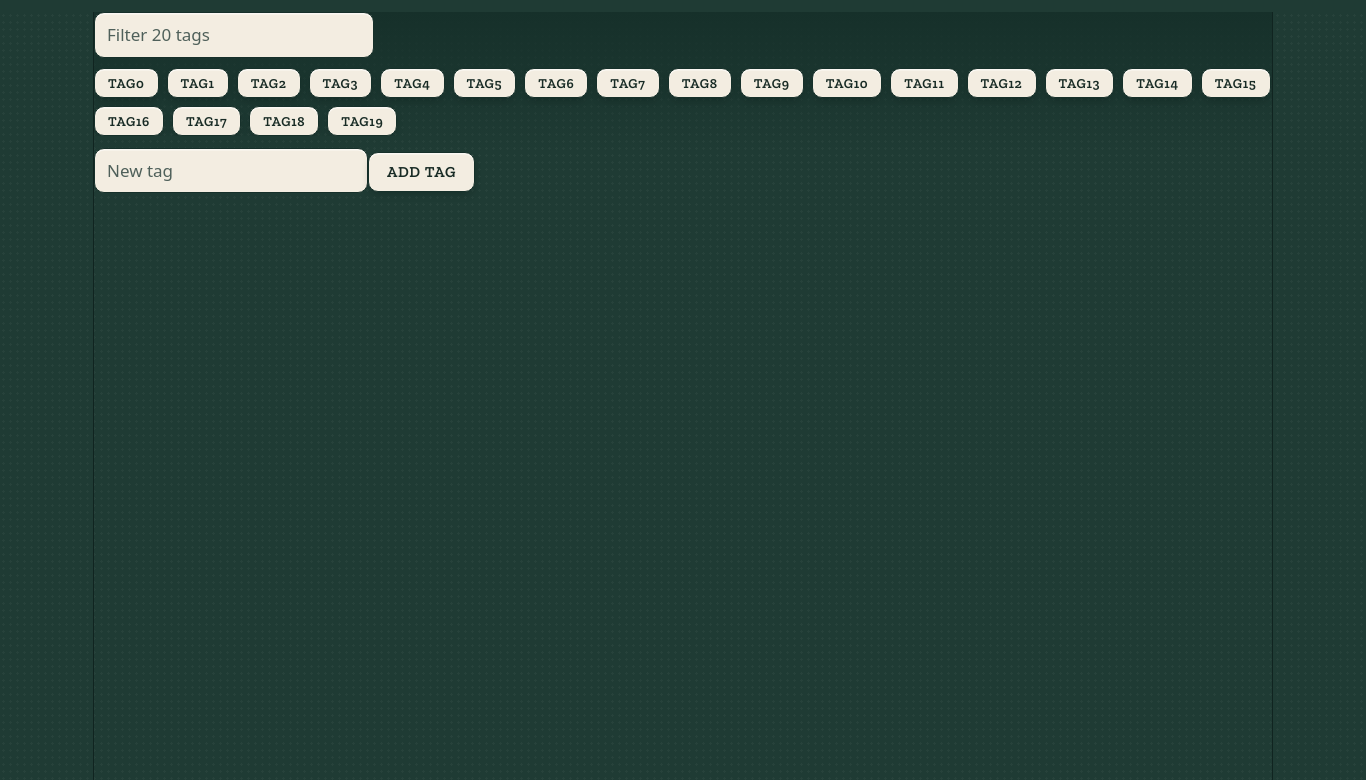
a filter that matches nothing says so rather than showing an empty gap
Type "zzz" into the field named "filter tags" at (234, 35), box [94,12,374,58]
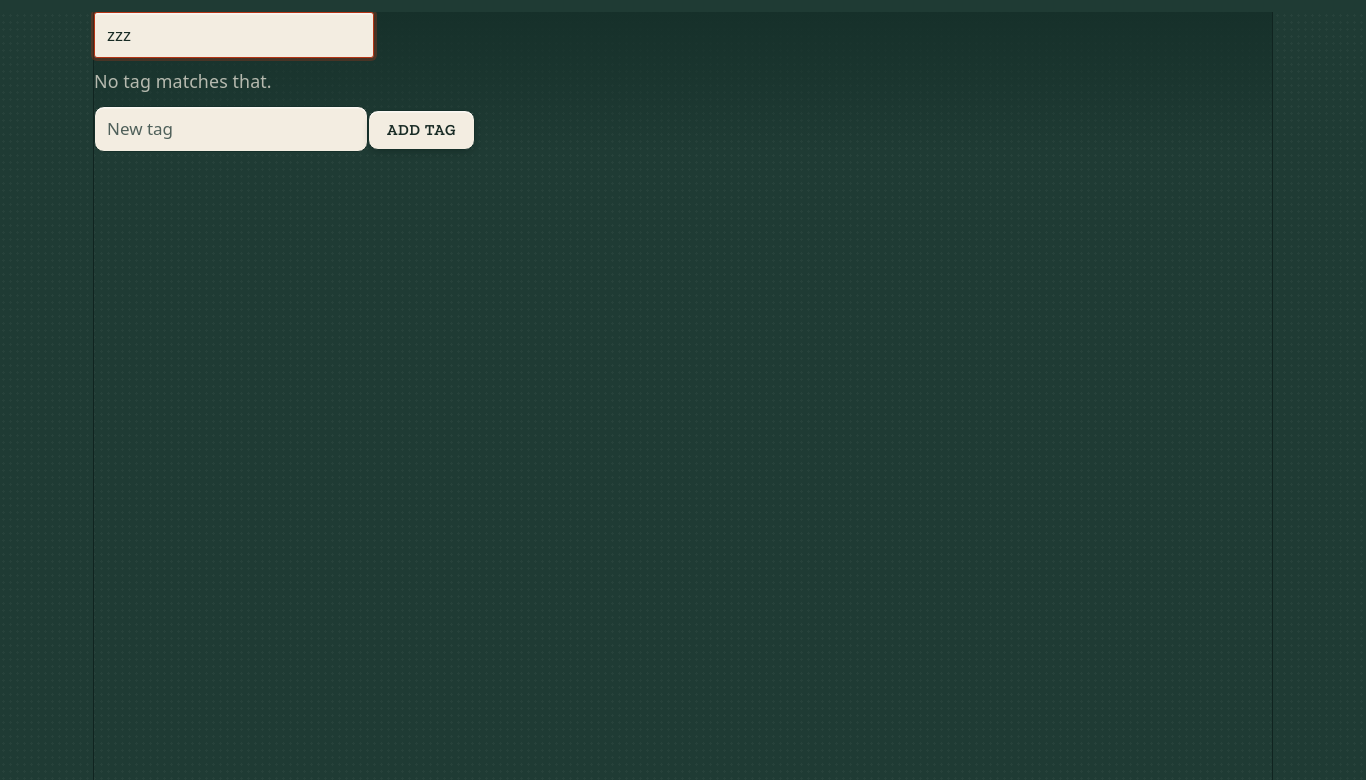
Expected: the text "No tag matches that." is shown, [94,68,272,94]
